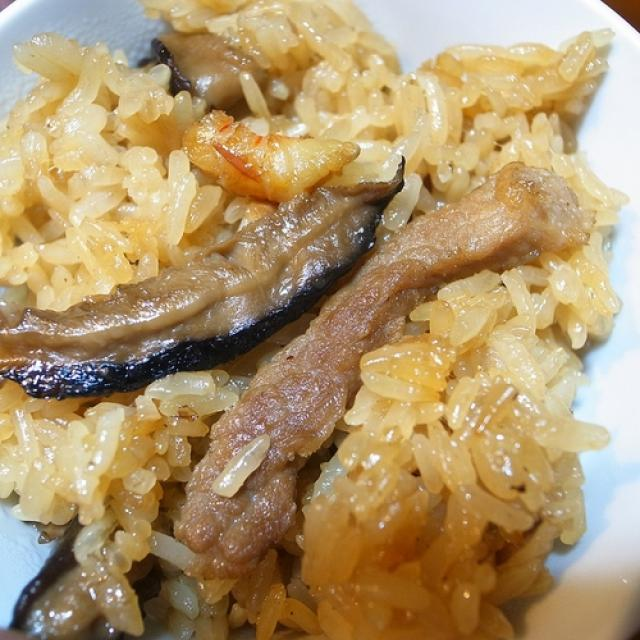米饭主食: (5, 8, 609, 631)
